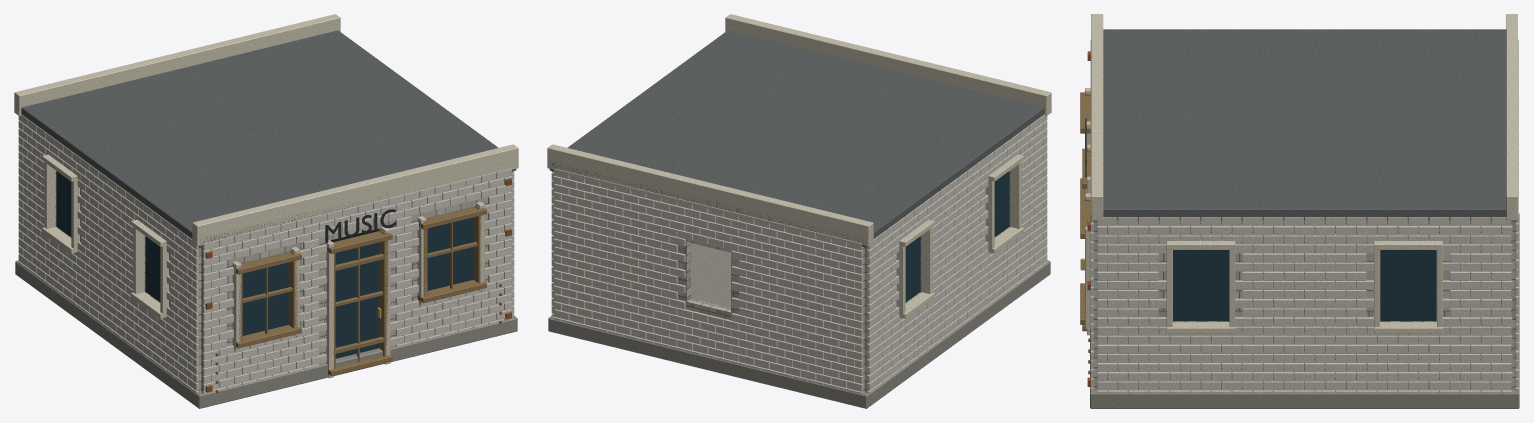
Rendered from SHOPE2_lod0.glb.
3 renders of one model, left to right at view 1: azimuth 30°, elevation 25°; view 2: azimuth 150°, elevation 25°; view 3: azimuth 270°, elevation 25°, orthographic. The views are drawn at different scales.
Visible parts, largest first — view 1: SHOPE2_LOD0; view 2: SHOPE2_LOD0; view 3: SHOPE2_LOD0.
Boxes of the visible parts, <box> form: SHOPE2_LOD0: <box>14,14,518,408</box>; SHOPE2_LOD0: <box>547,14,1051,408</box>; SHOPE2_LOD0: <box>1080,14,1519,408</box>.
Bounding box in the file's own units: 7.51 × 3.97 × 7.41.
Materials: 14 (11 with a texture image).
